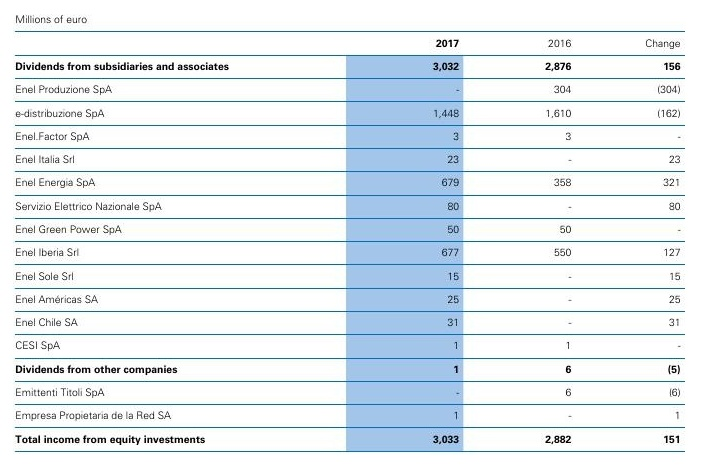table: (0, 0, 702, 469)
